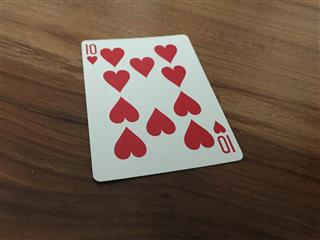TenOfHearts: (79, 33, 243, 182)
